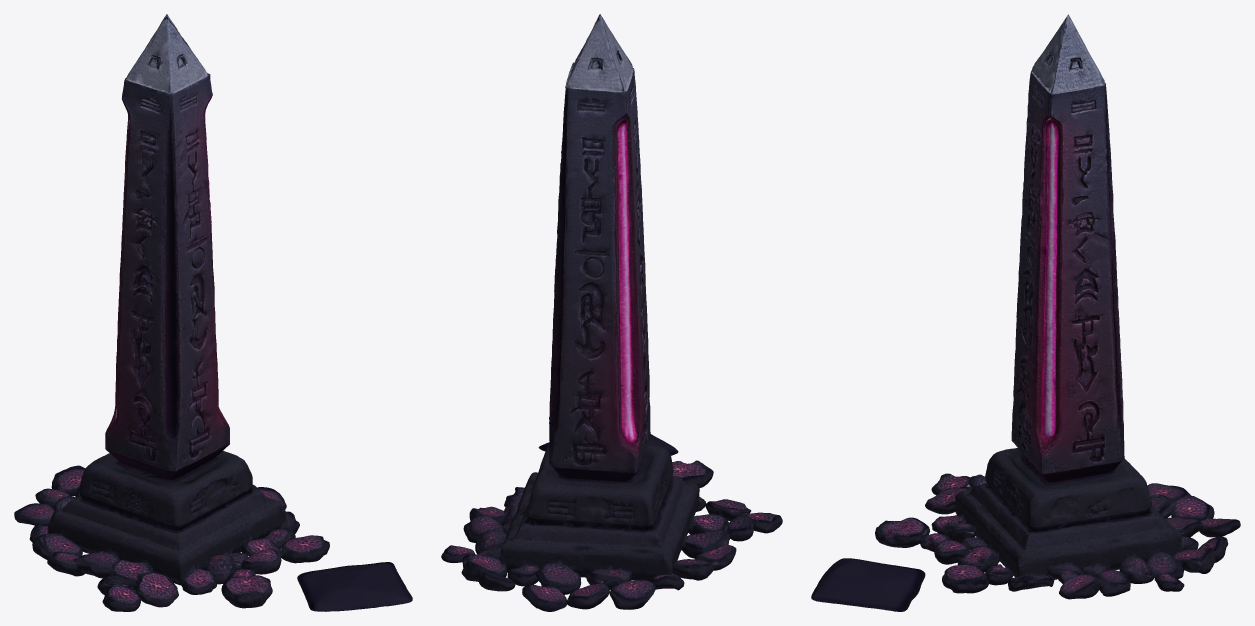
The model's file is obelisk.glb.
The picture shows the model from 3 angles, left to right: view 1: azimuth 30°, elevation 25°; view 2: azimuth 150°, elevation 25°; view 3: azimuth 270°, elevation 25°; orthographic projection.
Visible parts, largest first — view 1: tripo_node_f81dd74c-f298-4bb6-ac26-1fbd37205cf1; view 2: tripo_node_f81dd74c-f298-4bb6-ac26-1fbd37205cf1; view 3: tripo_node_f81dd74c-f298-4bb6-ac26-1fbd37205cf1.
Part boxes in pixels (x1,y1,x2,y2): tripo_node_f81dd74c-f298-4bb6-ac26-1fbd37205cf1: (14, 14, 412, 611); tripo_node_f81dd74c-f298-4bb6-ac26-1fbd37205cf1: (441, 14, 782, 611); tripo_node_f81dd74c-f298-4bb6-ac26-1fbd37205cf1: (811, 14, 1240, 611).
Size of the model in its own units: 0.5203 by 0.978 by 0.7209.
1 material, 1 textured.
